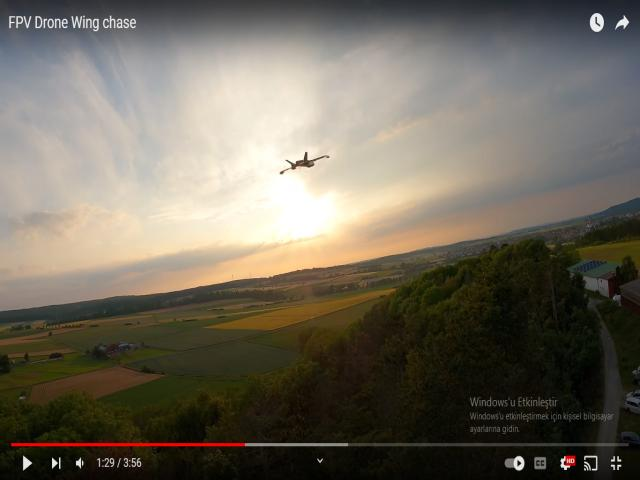plane: (280, 153, 329, 173)
